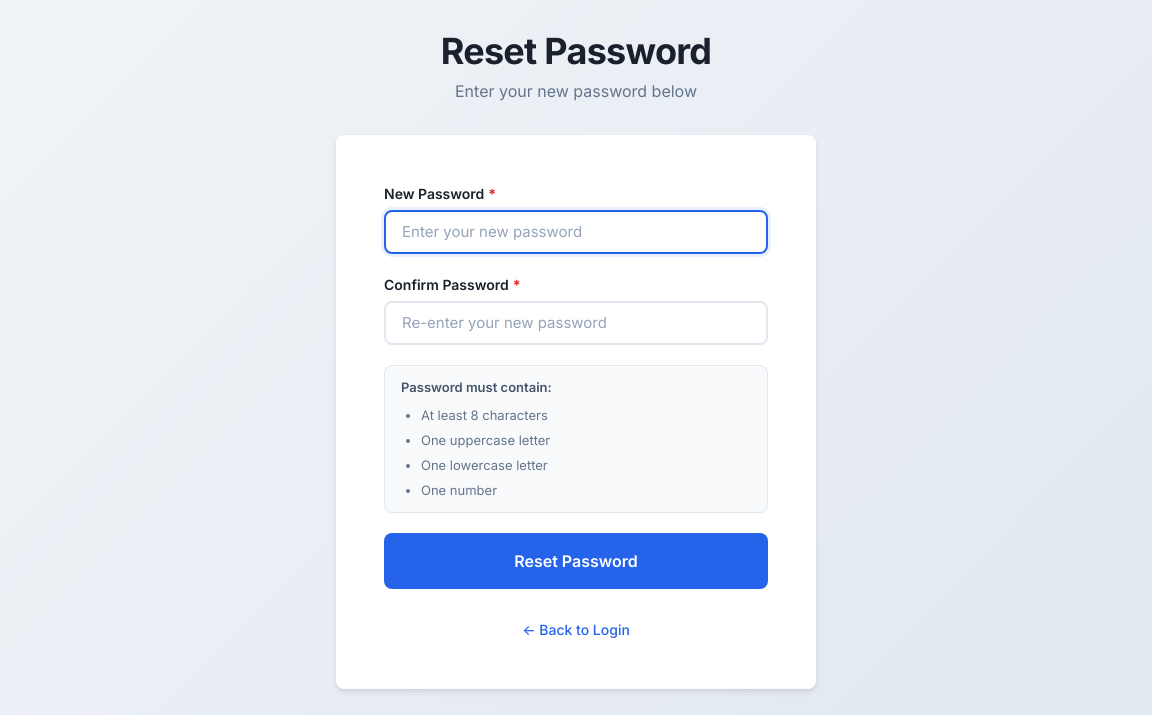
ResetPasswordPage Component › Error Handling › displays error message on reset failure
The width and height of the screenshot is (1152, 715).
Step 1. Type "Password123" into the password field labelled "New Password*" → (576, 232), box [384, 210, 768, 254]
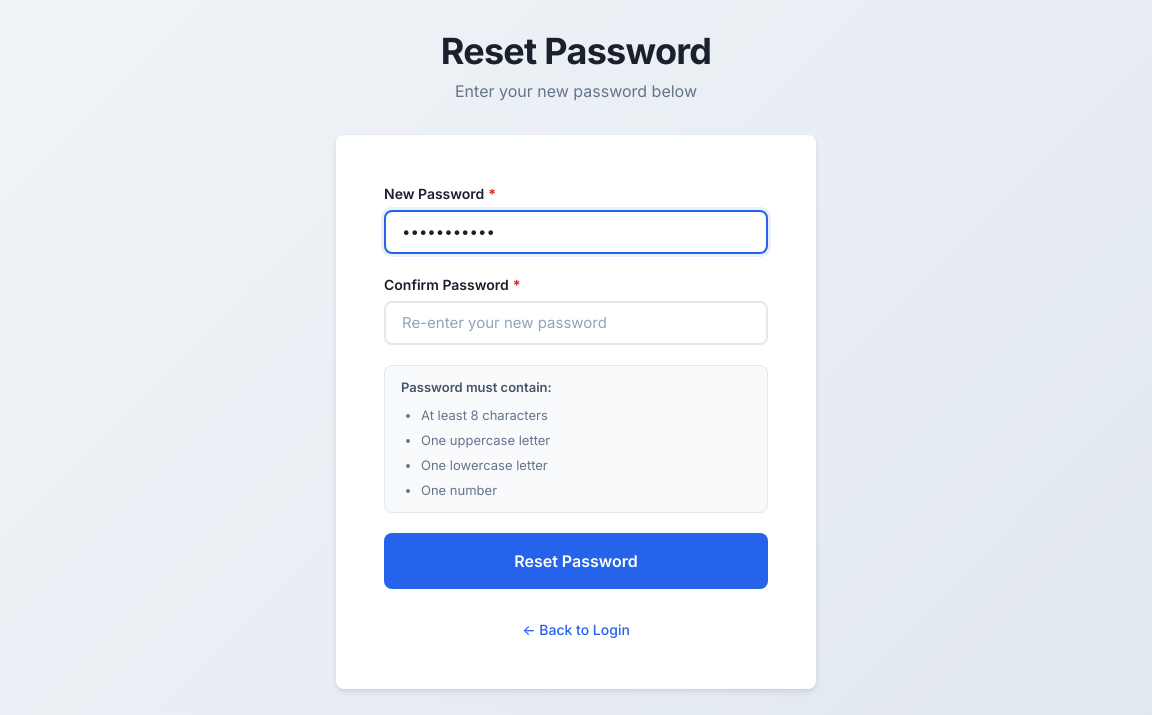
Step 2. Type "Password123" into the password field labelled "Confirm Password*" → (576, 323), box [384, 301, 768, 345]
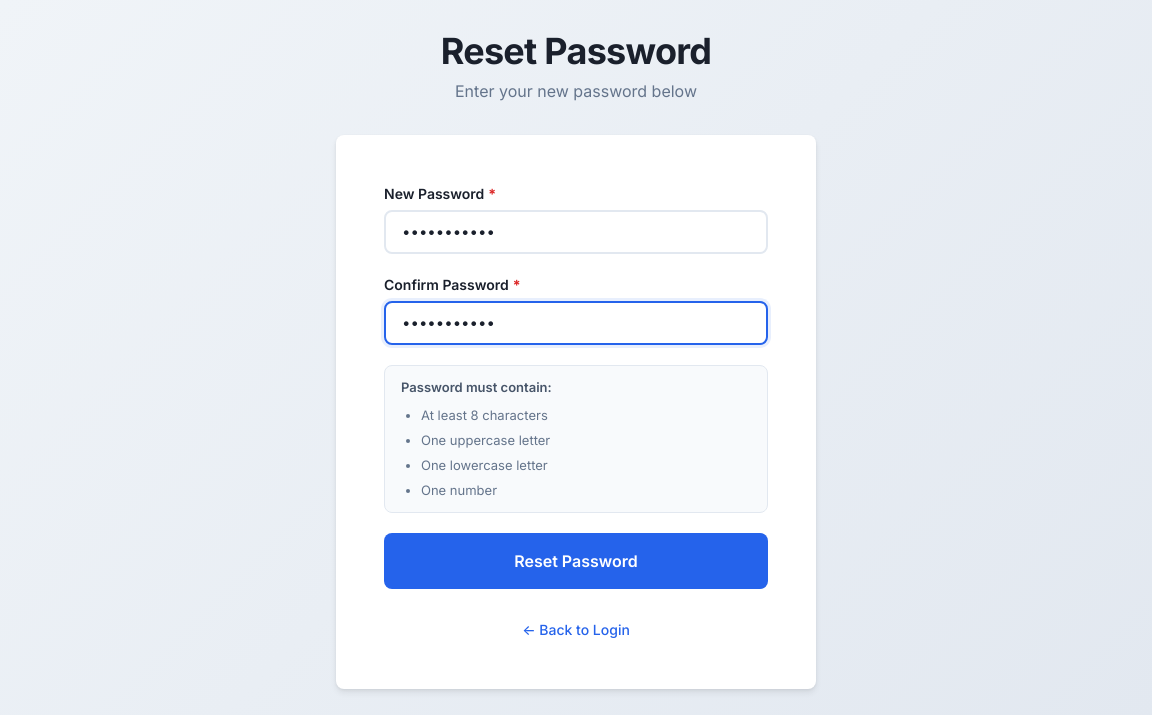
Step 3. Click the button "Reset Password" → (576, 561), box [384, 533, 768, 589]
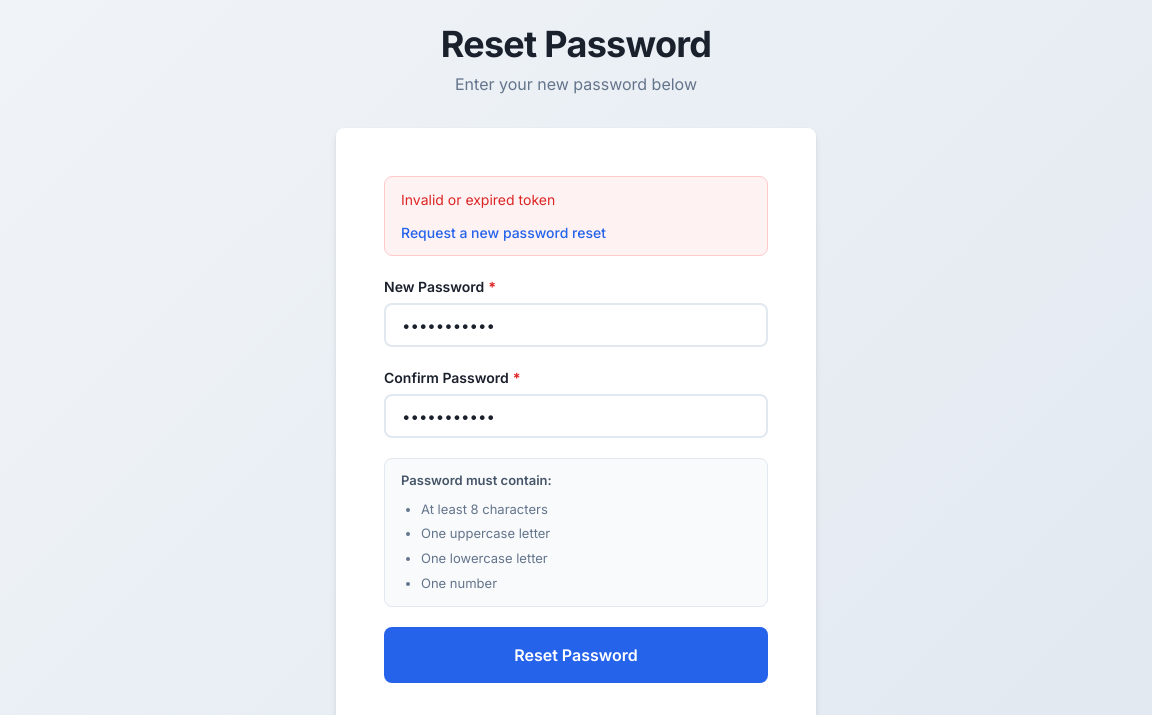
Check: the text "Invalid or expired token" is shown, box [401, 191, 555, 208]
